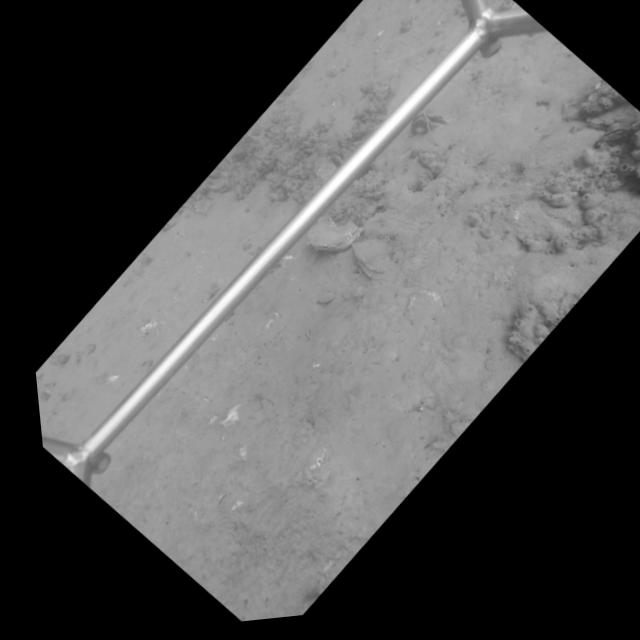Oyster-Closed: (304, 213, 365, 253), (353, 233, 400, 284), (591, 120, 640, 145)
Oyster-Open: (410, 110, 454, 138)
